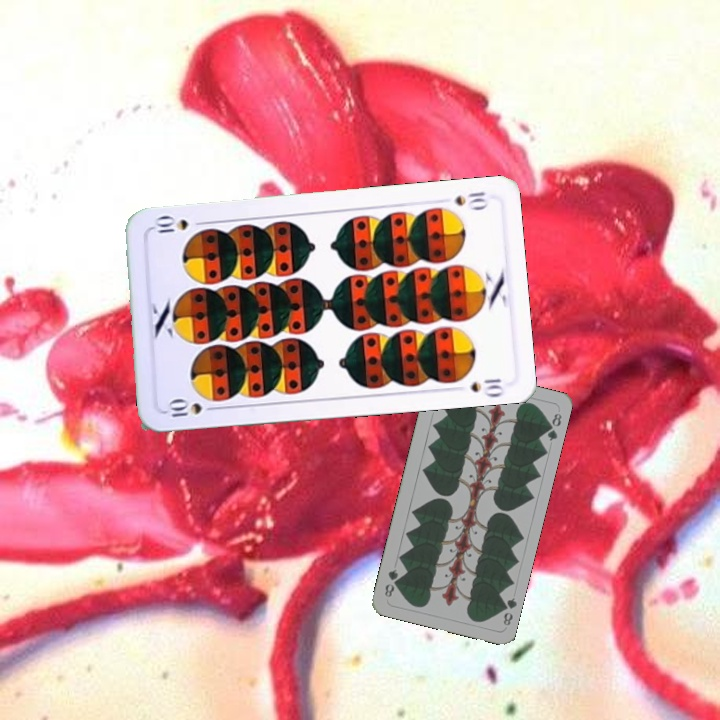G8: (496, 594, 519, 628)
S10: (162, 396, 221, 420), (451, 188, 491, 212)
